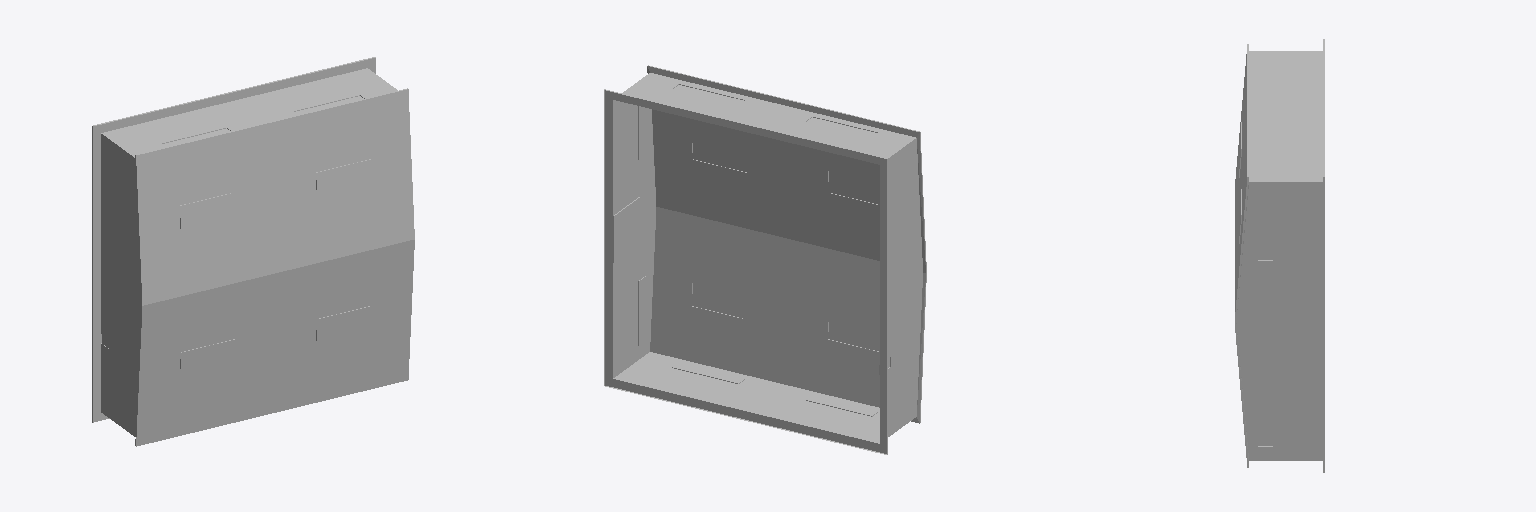
File: igs_warehouse_2.obj
3 views of the same model, side by side, from view 1: azimuth 30°, elevation 25°; view 2: azimuth 150°, elevation 25°; view 3: azimuth 270°, elevation 25° (orthographic).
Size of the model in its own units: 3 by 3 by 0.8345.